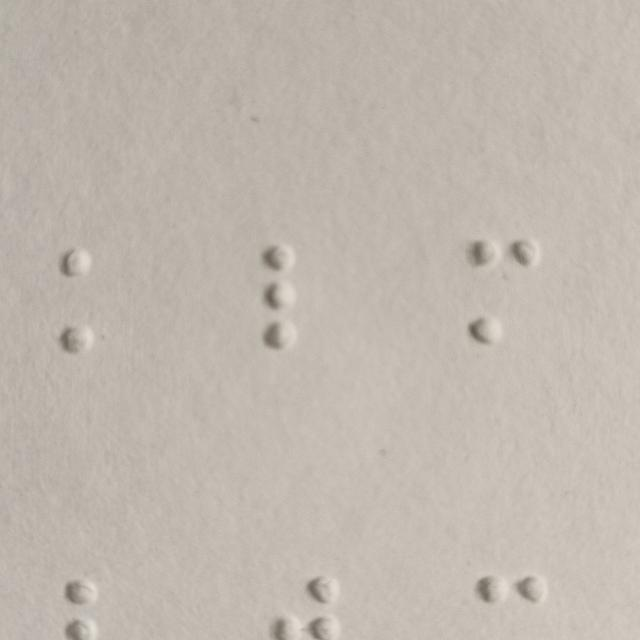letter_k: (59, 245, 138, 357)
letter_l: (255, 243, 333, 356)
letter_m: (467, 234, 546, 347)
